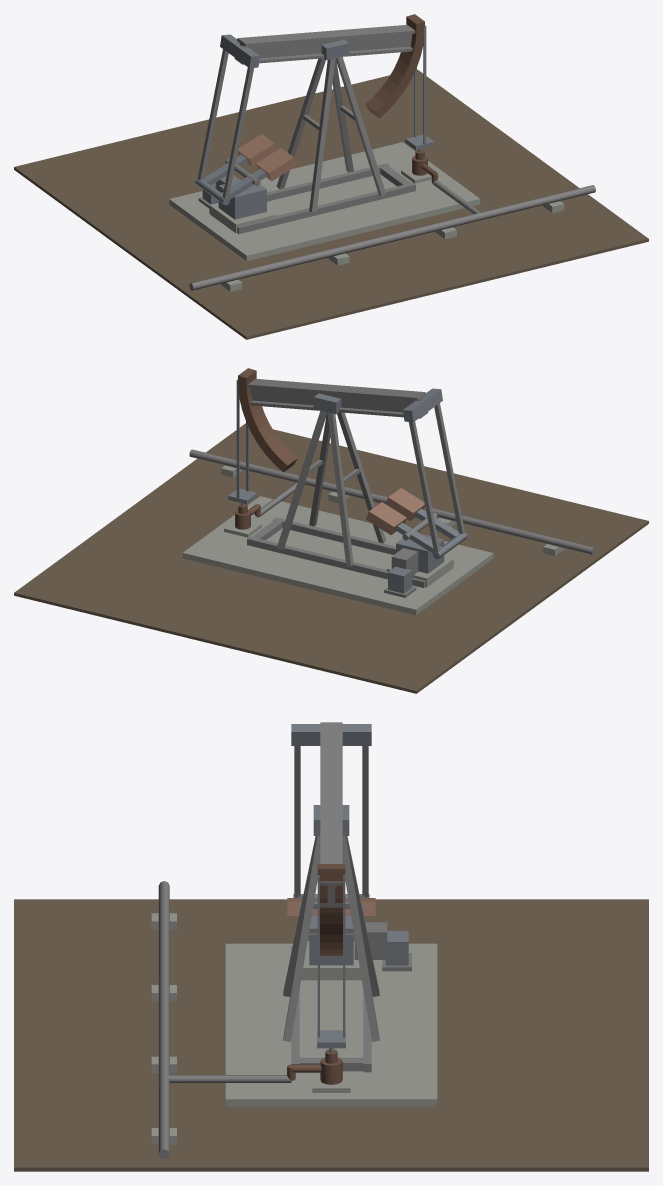
File: tile.fbx
3 renders of one model, top to bottom at view 1: azimuth 30°, elevation 25°; view 2: azimuth 150°, elevation 25°; view 3: azimuth 270°, elevation 25°, orthographic. The views are drawn at different scales.
Parts seen in each view (by area): view 1: a1017.Tile; view 2: a1017.Tile; view 3: a1017.Tile.
Part boxes in pixels (left/top/right/bottom): a1017.Tile: left=14, top=14, right=648, bottom=339; a1017.Tile: left=14, top=368, right=648, bottom=693; a1017.Tile: left=14, top=722, right=648, bottom=1171.
Bounding box in the file's own units: 15 × 6.65 × 15.
